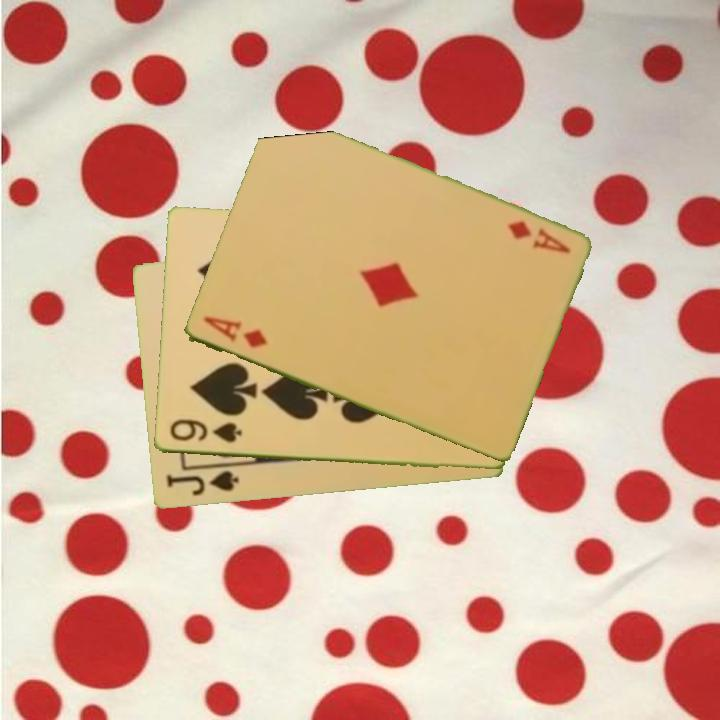9s: (166, 416, 244, 446)
Ad: (199, 313, 270, 352), (504, 217, 573, 257)
Js: (162, 468, 241, 499)
